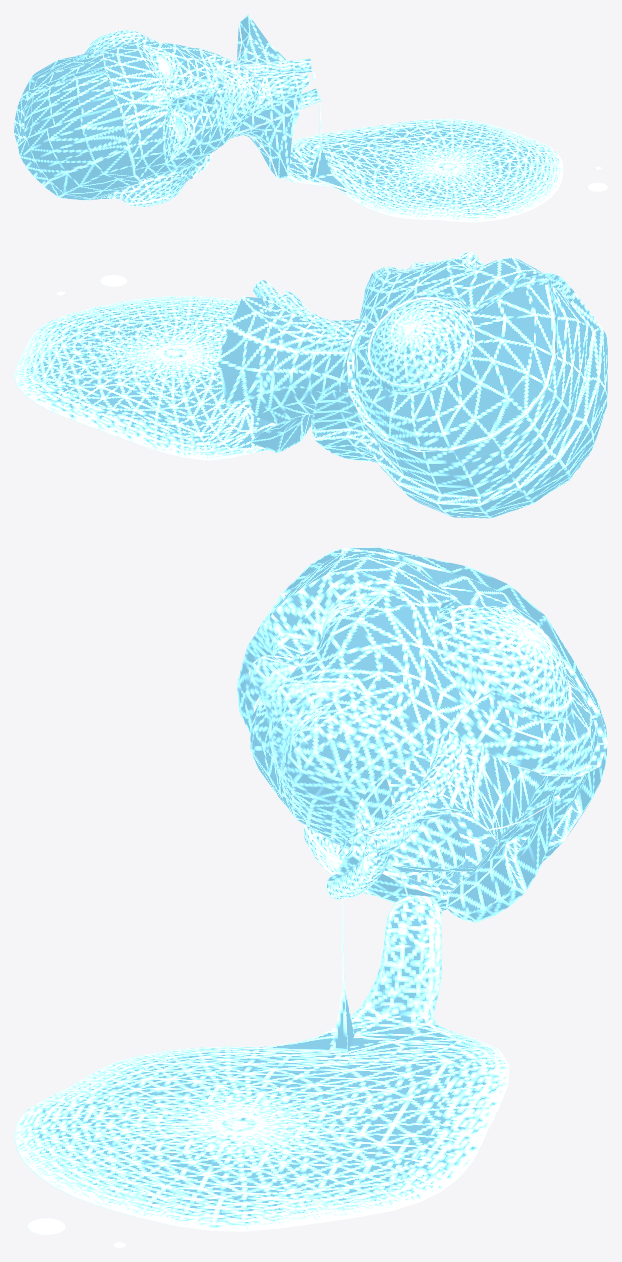
Rendered from cyborg_head.gltf.
3 views of the same model, one above another, from view 1: azimuth 30°, elevation 25°; view 2: azimuth 150°, elevation 25°; view 3: azimuth 270°, elevation 25° (orthographic). The views are drawn at different scales.
Visible parts, largest first — view 1: cyborg pCylinder1; view 2: cyborg pCylinder1; view 3: cyborg pCylinder1.
Part boxes in pixels (<box>): cyborg pCylinder1: <box>14,14,607,222</box>; cyborg pCylinder1: <box>14,251,607,518</box>; cyborg pCylinder1: <box>14,547,607,1247</box>.
Bounding box in the file's own units: 9.08 × 3.03 × 5.14.
1 material, 1 textured.
